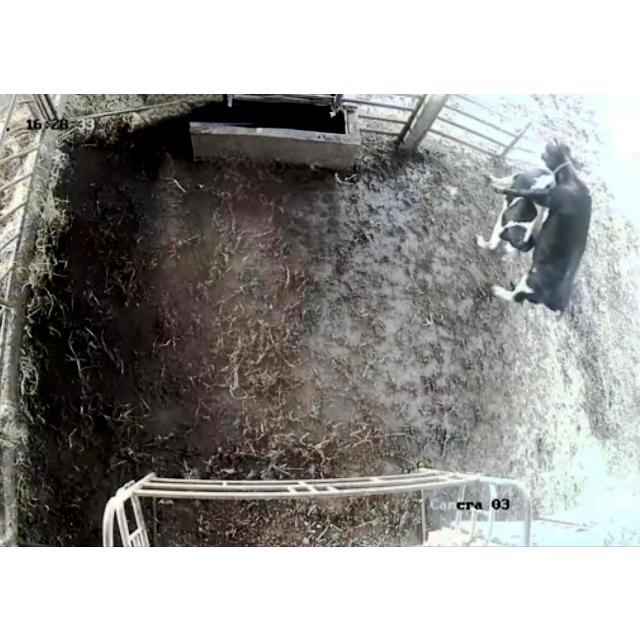ride: (491, 141, 592, 312)
